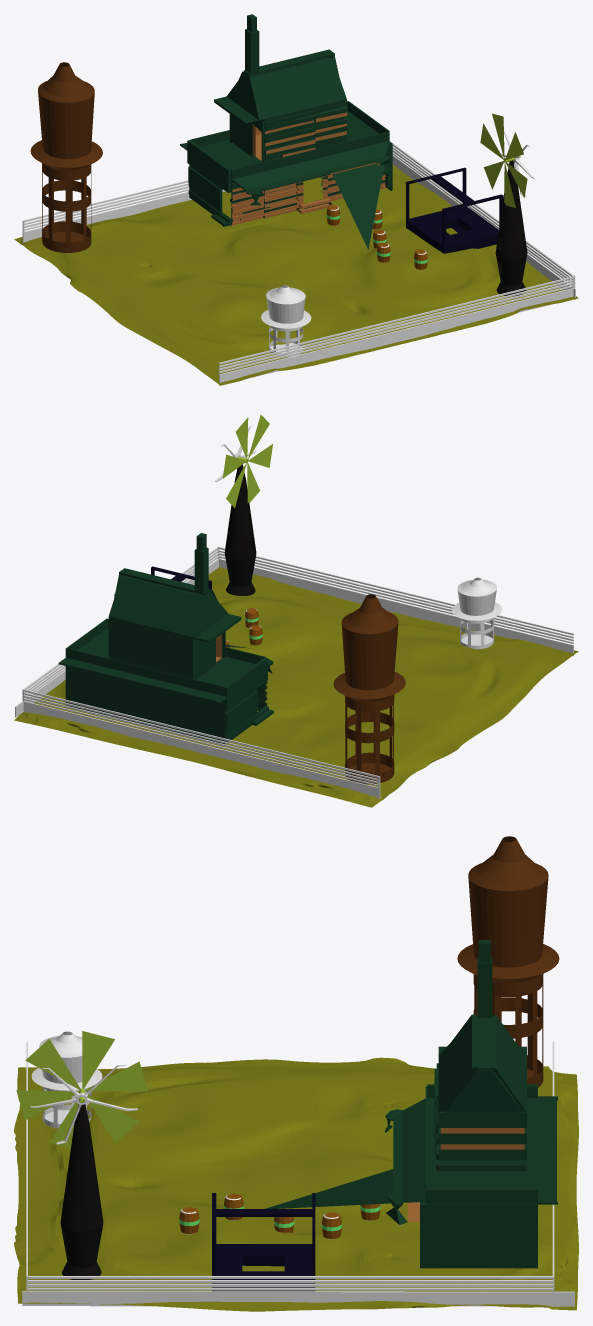
3 renders of one model, top to bottom at view 1: azimuth 30°, elevation 25°; view 2: azimuth 150°, elevation 25°; view 3: azimuth 270°, elevation 25°, orthographic. The views are drawn at different scales.
Parts seen in each view (by area): view 1: Plane, Cube, Cylinder.003, Cube.003, Cube.004, Cube.001, Cylinder, Cylinder.005, Cylinder.001, Cube.002; view 2: Plane, Cube, Cube.003, Cylinder.003, Cube.001, Cylinder, Cylinder.005, Cylinder.001, Cube.002; view 3: Plane, Cube, Cylinder.003, Cube.003, Cube.002, Cylinder.001, Cylinder, Cube.004, Cylinder.005, Cylinder.002.
Part boxes in pixels (bbox=[...]): Plane: bbox=[14, 164, 578, 385]; Cube: bbox=[180, 14, 392, 249]; Cylinder.003: bbox=[30, 62, 102, 252]; Cube.003: bbox=[22, 141, 575, 373]; Cube.004: bbox=[405, 167, 503, 253]; Cube.001: bbox=[219, 288, 573, 385]; Cylinder: bbox=[495, 160, 527, 296]; Cylinder.005: bbox=[261, 285, 311, 357]; Cylinder.001: bbox=[480, 113, 527, 207]; Cube.002: bbox=[392, 154, 575, 299]; Plane: bbox=[14, 567, 578, 807]; Cube: bbox=[58, 533, 273, 744]; Cube.003: bbox=[22, 546, 573, 798]; Cylinder.003: bbox=[333, 594, 405, 784]; Cube.001: bbox=[219, 558, 573, 655]; Cylinder: bbox=[224, 464, 256, 595]; Cylinder.005: bbox=[452, 577, 501, 649]; Cylinder.001: bbox=[222, 414, 272, 507]; Cube.002: bbox=[15, 557, 221, 717]; Plane: bbox=[14, 1057, 578, 1311]; Cube: bbox=[265, 940, 557, 1268]; Cylinder.003: bbox=[457, 836, 559, 1087]; Cube.003: bbox=[26, 1041, 554, 1306]; Cube.002: bbox=[22, 1291, 574, 1306]; Cylinder.001: bbox=[16, 1031, 148, 1147]; Cylinder: bbox=[60, 1104, 103, 1279]; Cube.004: bbox=[212, 1193, 315, 1291]; Cylinder.005: bbox=[31, 1031, 102, 1128]; Cylinder.002: bbox=[30, 1064, 137, 1144].
Bounding box in the file's own units: 19422 × 9605 × 18399.
